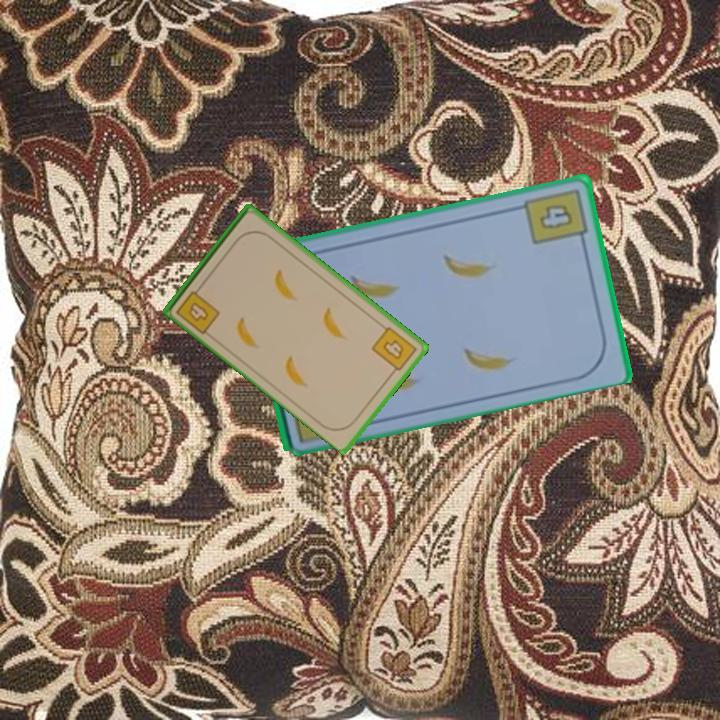4b: (520, 184, 590, 248), (368, 323, 420, 378), (172, 281, 223, 337)
